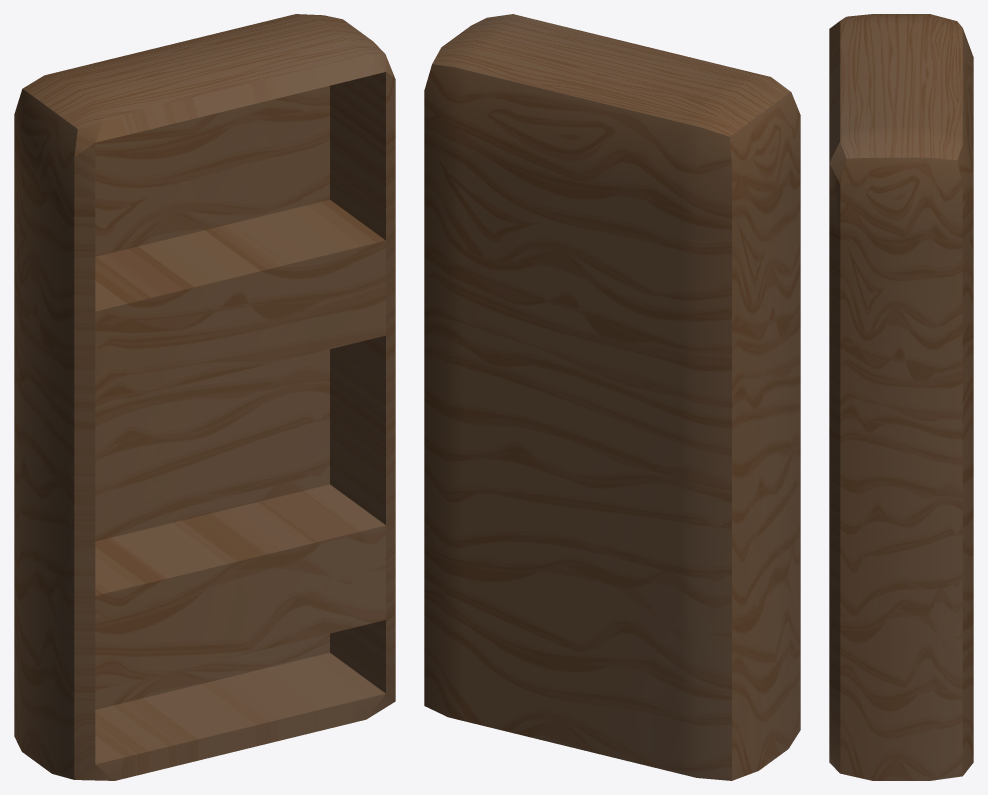
File: Estante 1.fbx
3 renders of one model, left to right at view 1: azimuth 30°, elevation 25°; view 2: azimuth 150°, elevation 25°; view 3: azimuth 270°, elevation 25°, orthographic. The views are drawn at different scales.
Visible parts, largest first — view 1: Estante; view 2: Estante; view 3: Estante.
Part boxes in pixels (x1,y1,x2,y2): Estante: [14, 14, 395, 780]; Estante: [424, 14, 800, 780]; Estante: [829, 14, 973, 780].
Size of the model in its own units: 137 by 263 by 54.78.
